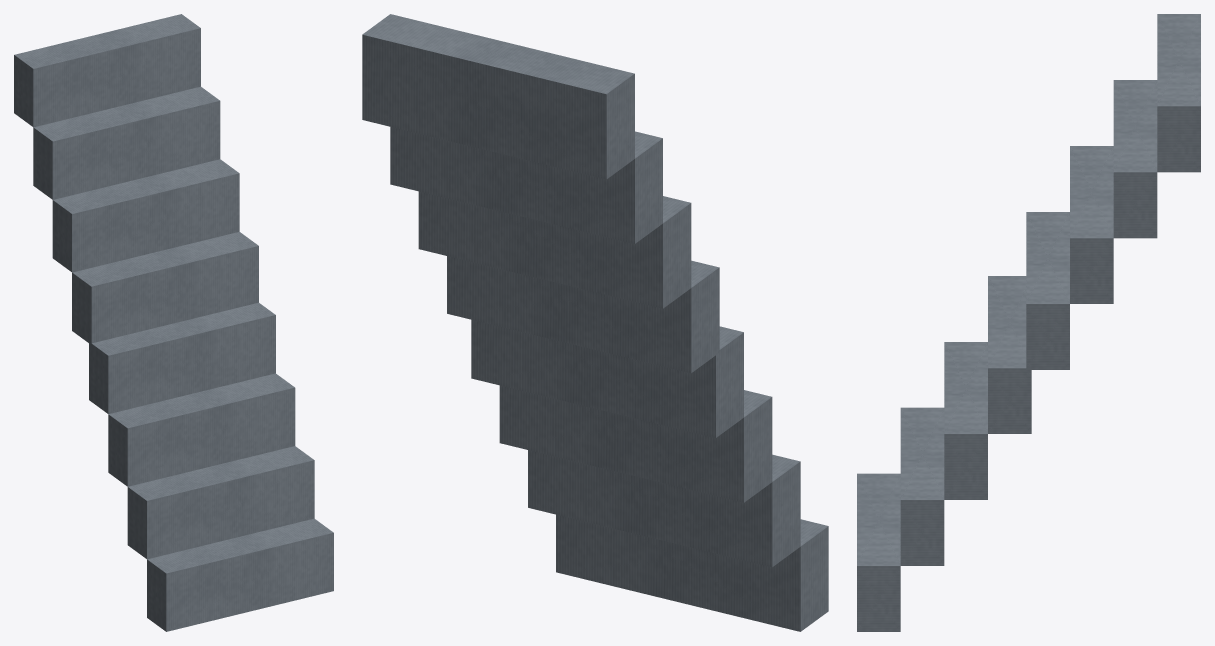
File: gf-mwrumekm.glb
3 views of the same model, side by side, from view 1: azimuth 30°, elevation 25°; view 2: azimuth 150°, elevation 25°; view 3: azimuth 270°, elevation 25° (orthographic). The views are drawn at different scales.
Visible parts, largest first — view 1: Body2, Body3, Body5, Body7, Body1, Body8, Body4, Body6; view 2: Body1, Body6, Body5, Body3, Body4, Body7, Body8, Body2; view 3: Body2, Body7, Body1, Body8, Body3, Body4, Body5, Body6.
Boxes of the visible parts, x1=… form: Body2: x1=33, y1=86, x2=220, y2=199; Body3: x1=52, y1=159, x2=239, y2=272; Body5: x1=108, y1=373, x2=295, y2=486; Body7: x1=127, y1=446, x2=314, y2=559; Body1: x1=14, y1=14, x2=200, y2=127; Body8: x1=147, y1=518, x2=333, y2=631; Body4: x1=72, y1=232, x2=258, y2=344; Body6: x1=89, y1=302, x2=275, y2=413; Body1: x1=362, y1=14, x2=634, y2=179; Body6: x1=471, y1=319, x2=743, y2=437; Body5: x1=499, y1=385, x2=772, y2=502; Body3: x1=418, y1=191, x2=691, y2=308; Body4: x1=447, y1=256, x2=719, y2=373; Body7: x1=528, y1=450, x2=800, y2=567; Body8: x1=556, y1=514, x2=828, y2=631; Body2: x1=390, y1=127, x2=662, y2=243; Body2: x1=1113, y1=80, x2=1157, y2=238; Body7: x1=900, y1=407, x2=944, y2=565; Body1: x1=1157, y1=14, x2=1200, y2=172; Body8: x1=857, y1=473, x2=900, y2=631; Body3: x1=1070, y1=146, x2=1113, y2=303; Body4: x1=1026, y1=212, x2=1069, y2=369; Body5: x1=944, y1=342, x2=987, y2=499; Body6: x1=988, y1=276, x2=1031, y2=433.
Bounding box in the file's own units: 0.9 × 2.39 × 1.42.
1 material, 1 textured.
